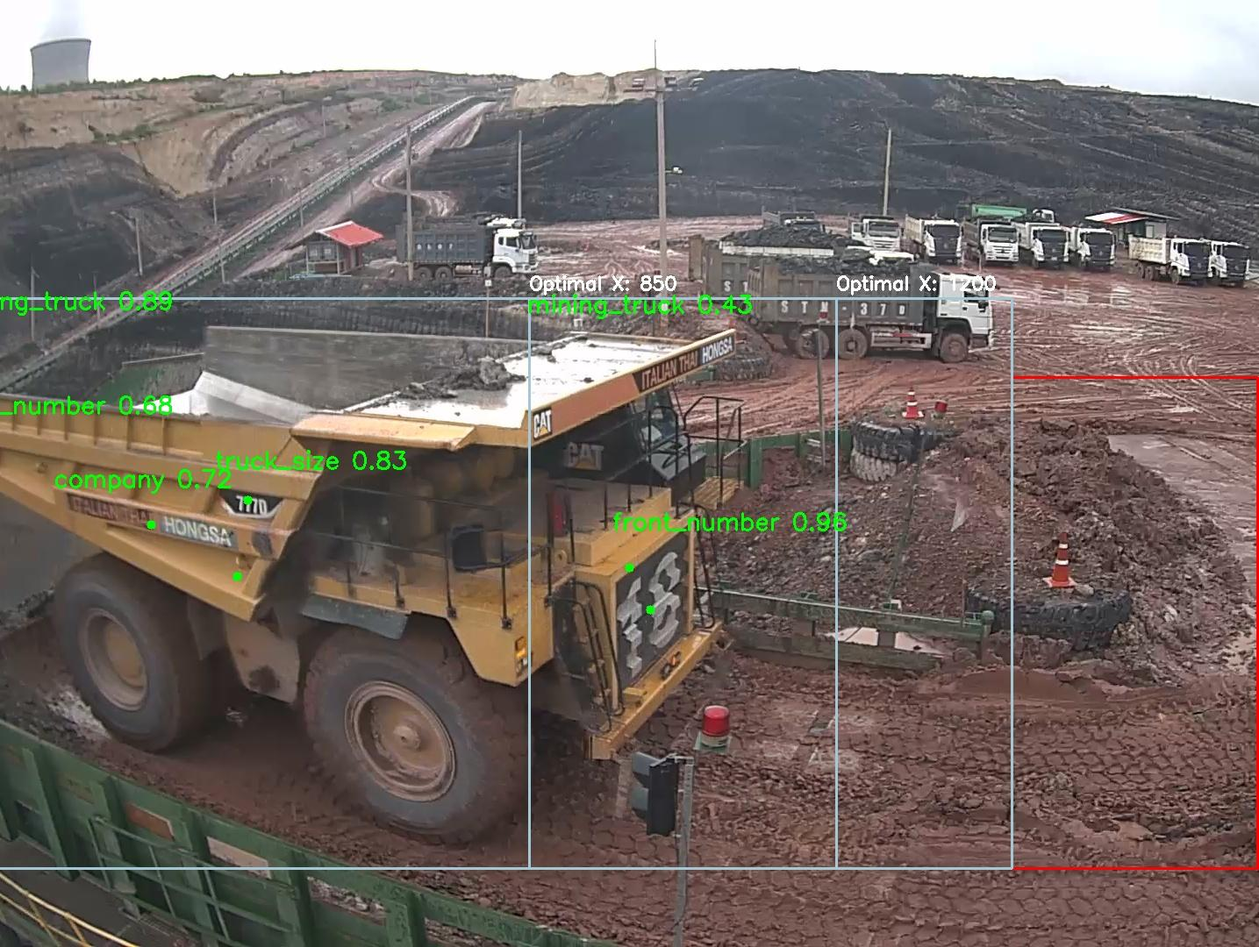company: (53, 492, 237, 569)
empty_load: (135, 321, 490, 456)
mining_truck: (8, 294, 765, 825)
truck_size: (218, 476, 290, 524)
